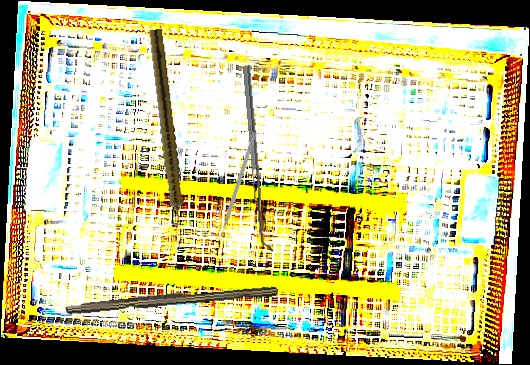Chopper: (211, 130, 257, 244)
Handpiece: (144, 28, 188, 232)
Scalpel Handle: (64, 279, 279, 319)
Spatula Surgical: (242, 64, 274, 254)
